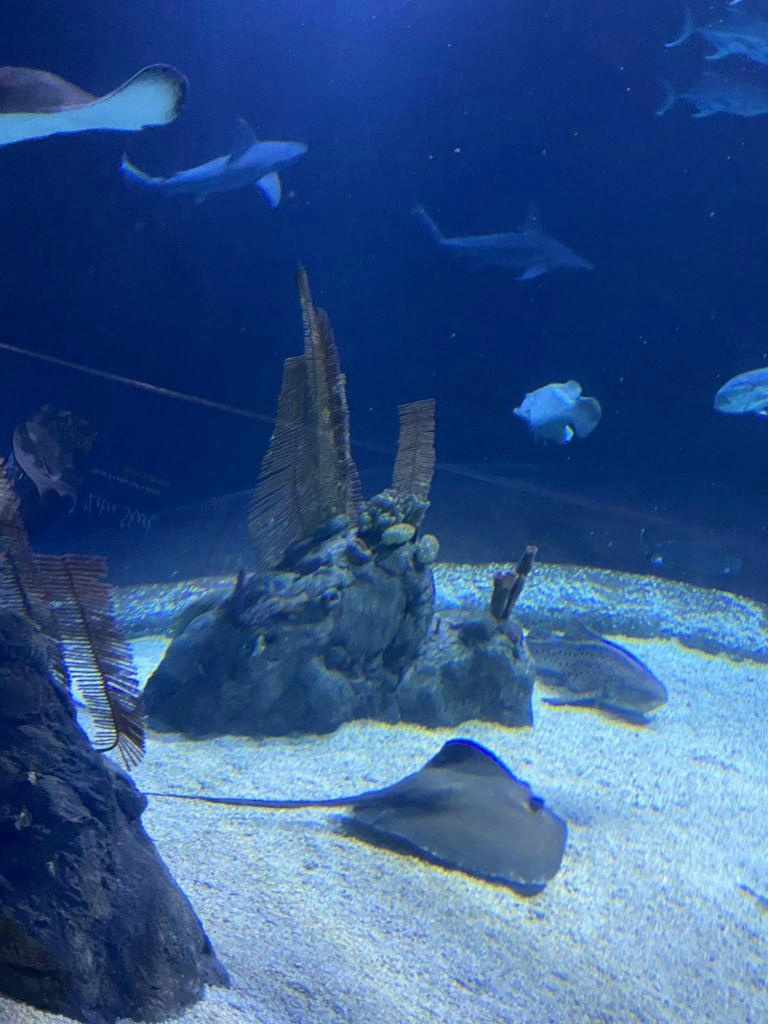fish: (522, 614, 668, 714), (650, 66, 768, 124), (665, 2, 767, 66), (512, 379, 602, 447), (714, 366, 768, 420)
shark: (117, 114, 309, 212), (402, 197, 594, 287)
stingray: (342, 739, 568, 885), (0, 64, 189, 149), (646, 538, 742, 578)
